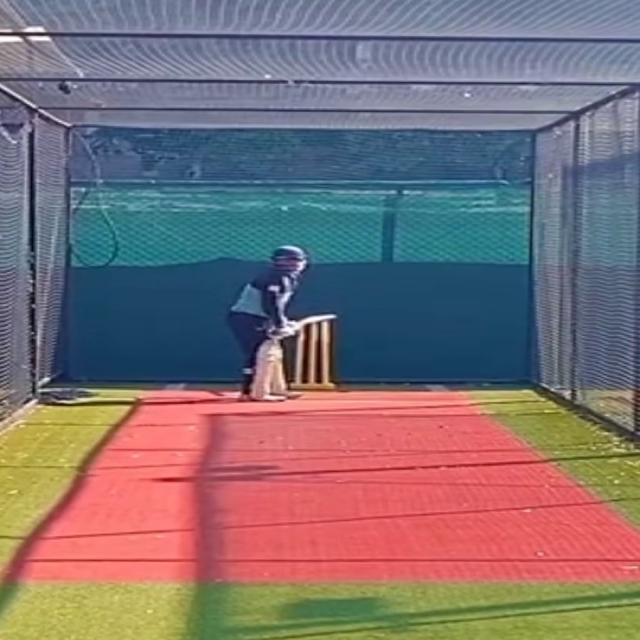stump: (296, 322, 334, 391)
